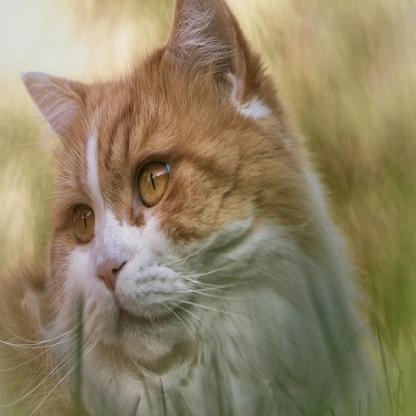cat: (20, 0, 360, 387)
